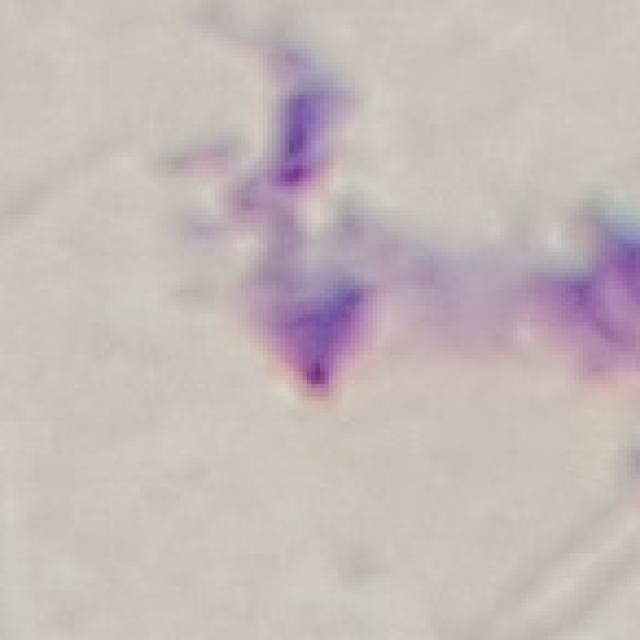non-sperm: (241, 49, 381, 402)
